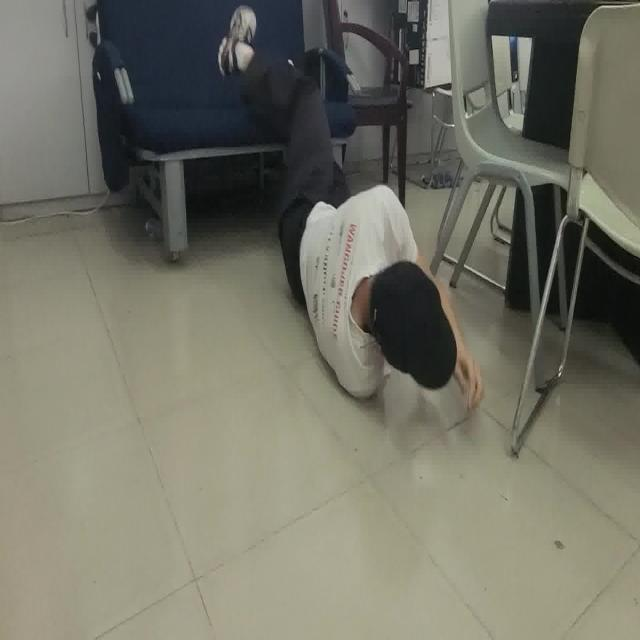Fall-Detected: (215, 4, 484, 429)
